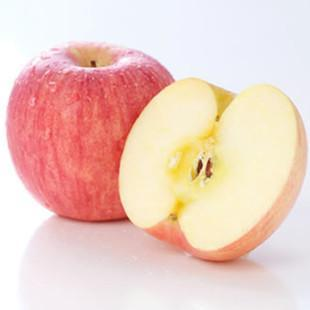apple: (4, 42, 175, 227)
